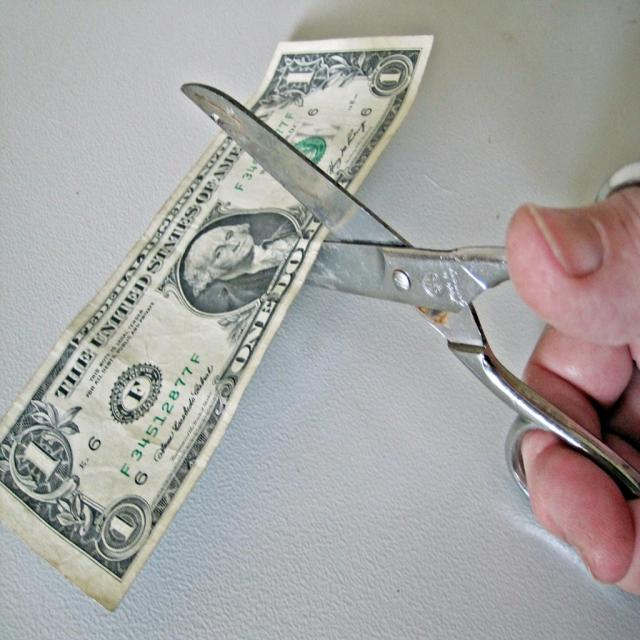scissors: (180, 80, 639, 502)
